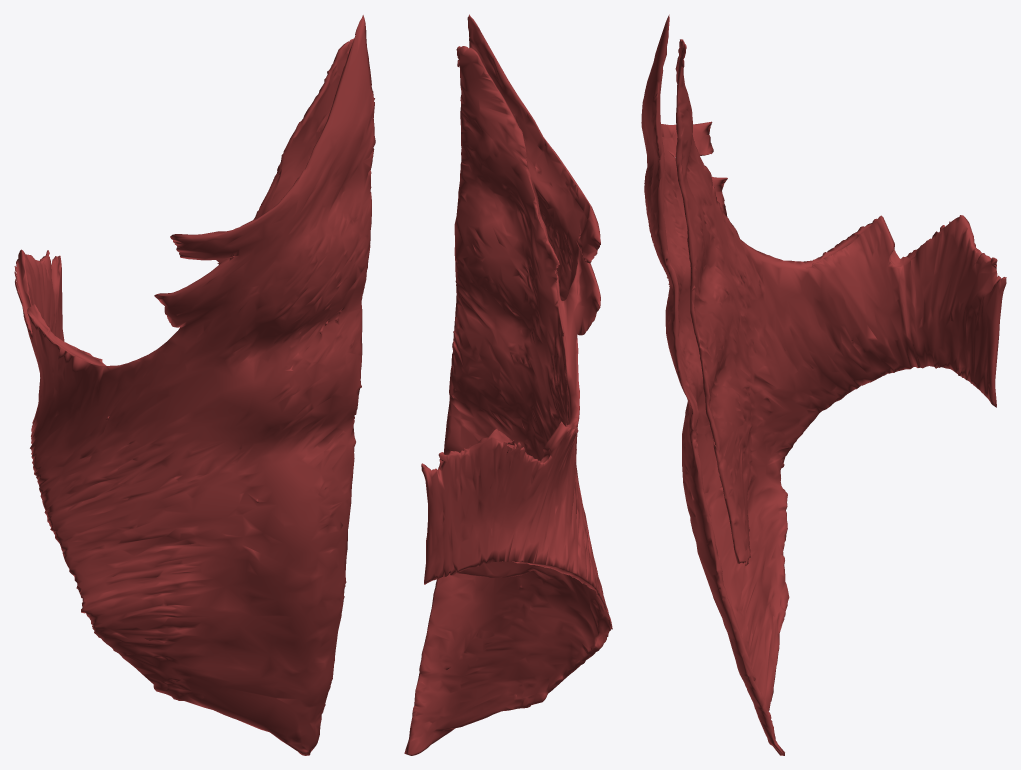
File: internal-abdominal-oblique-muscle-r.glb
3 renders of one model, left to right at view 1: azimuth 30°, elevation 25°; view 2: azimuth 150°, elevation 25°; view 3: azimuth 270°, elevation 25°, orthographic. The views are drawn at different scales.
Visible parts, largest first — view 1: Internal abdominal oblique muscle.r; view 2: Internal abdominal oblique muscle.r; view 3: Internal abdominal oblique muscle.r.
Boxes of the visible parts, box(x1,y1,x2,y2) form: Internal abdominal oblique muscle.r: box(14, 15, 375, 755); Internal abdominal oblique muscle.r: box(404, 14, 612, 755); Internal abdominal oblique muscle.r: box(641, 14, 1006, 755).
Size of the model in its own units: 0.1245 by 0.3917 by 0.1754.
